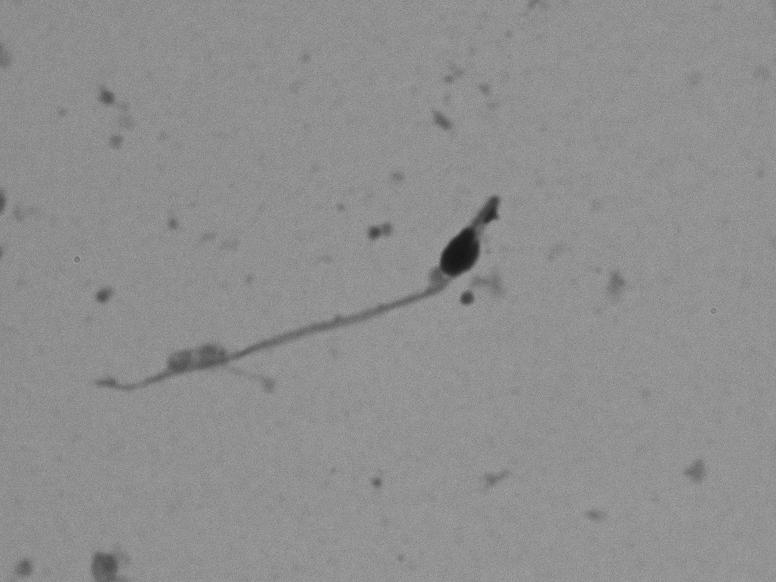Abnormal: (62, 188, 540, 419)
